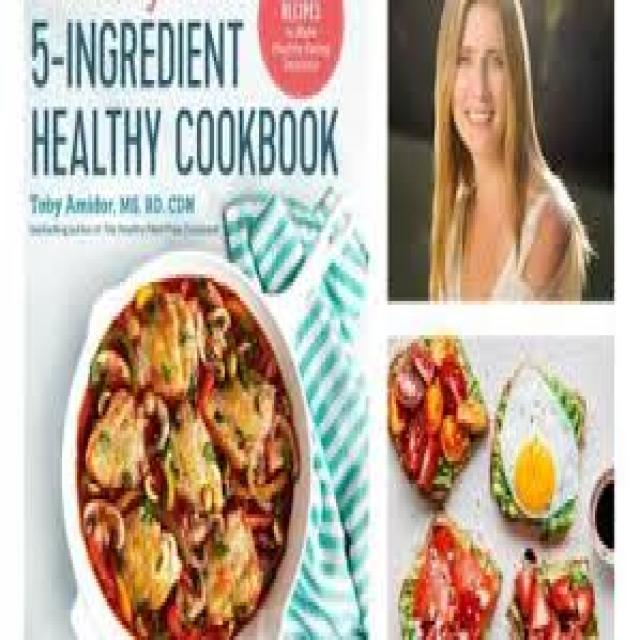Organik: (90, 270, 277, 640), (399, 333, 468, 494), (411, 519, 501, 640), (510, 370, 580, 521), (521, 560, 587, 635)
